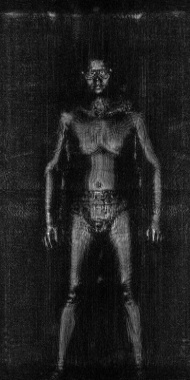gun: (106, 95, 138, 110)
